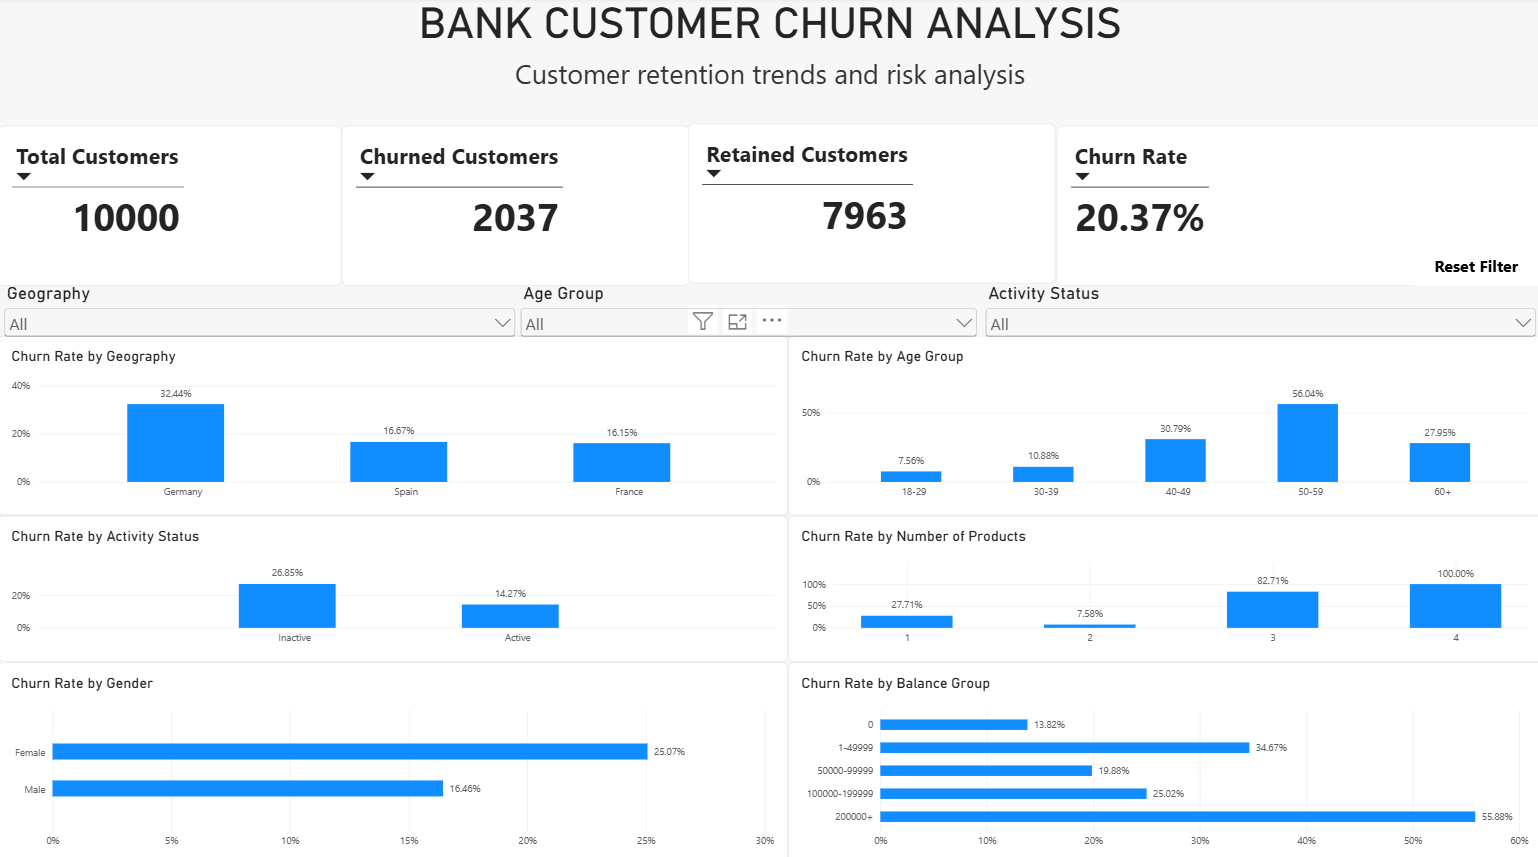

Layout of this report page (visuals, bound fields, positions):
{"tool":"powerbi","page":{"name":"Page 1","canvas":[1920,1080],"ordinal":0},"visuals":[{"type":"clusteredColumnChart","title":"Churn Rate by Number of Products","fields":{"Category":["Bank_Churn.numofproducts"],"Y":["Bank_Churn.Churn Rate"]},"box":[982.4,645.3,938.3,181.2],"z":0},{"type":"clusteredColumnChart","title":"Churn Rate by Activity Status","fields":{"Category":["Bank_Churn.Activity Status"],"Y":["Bank_Churn.Churn Rate"]},"box":[0,645.3,982.4,181.2],"z":1000},{"type":"clusteredColumnChart","title":"Churn Rate by Age Group","fields":{"Category":["Bank_Churn.Age Group"],"Y":["Bank_Churn.Churn Rate"]},"box":[982.4,421.7,938.3,223.6],"z":2000},{"type":"clusteredColumnChart","title":"Churn Rate by Geography","fields":{"Category":["Bank_Churn.geography"],"Y":["Bank_Churn.Churn Rate"]},"box":[0,421.7,982.4,223.6],"z":3000},{"type":"clusteredBarChart","title":"Churn Rate by Gender","fields":{"Category":["Bank_Churn.gender"],"Y":["Bank_Churn.Churn Rate"]},"box":[0,826.5,982.4,252.4],"z":4000},{"type":"clusteredBarChart","title":"Churn Rate by Balance Group","fields":{"Category":["Bank_Churn.Balance Group"],"Y":["Bank_Churn.Churn Rate"]},"box":[982.4,826.5,938.3,252.4],"z":5000},{"type":"slicer","fields":{"Values":["Bank_Churn.geography"]},"box":[3.4,355.7,645.4,66.3],"z":6000},{"type":"slicer","fields":{"Values":["Bank_Churn.Age Group"]},"box":[645.3,355.7,577.3,66.3],"z":7000},{"type":"slicer","fields":{"Values":["Bank_Churn.Activity Status"]},"box":[1222.9,355.7,694.2,66.3],"z":8000},{"type":"tableEx","fields":{"Values":["Bank_Churn.Total Customers"]},"box":[0,160.5,427.3,198.8],"z":9000},{"type":"tableEx","fields":{"Values":["Bank_Churn.Churned Customers"]},"box":[427.3,160.5,432.6,198.8],"z":10000},{"type":"tableEx","fields":{"Values":["Bank_Churn.Retained Customers"]},"box":[858.7,157.5,457,198.8],"z":11000},{"type":"tableEx","fields":{"Values":["Bank_Churn.Churn Rate"]},"box":[1316.5,160.8,604.7,199.3],"z":12000},{"type":"textbox","title":"BANK CUSTOMER CHURN ANALYSIS","box":[0,0,1920.4,160.5],"z":13000},{"type":"actionButton","box":[1760.4,309.9,159.1,50.2],"z":13001}]}

Visuals, with their boxes in screenshot pixels (x1, y1, x2, y2), scaled from the page's 1920x1080 canvas onto the 1538x857 screenshot:
"Churn Rate by Number of Products" clusteredColumnChart: x1=787 y1=512 x2=1537 y2=656
"Churn Rate by Activity Status" clusteredColumnChart: x1=0 y1=512 x2=787 y2=656
"Churn Rate by Age Group" clusteredColumnChart: x1=787 y1=335 x2=1537 y2=512
"Churn Rate by Geography" clusteredColumnChart: x1=0 y1=335 x2=787 y2=512
"Churn Rate by Gender" clusteredBarChart: x1=0 y1=656 x2=787 y2=856
"Churn Rate by Balance Group" clusteredBarChart: x1=787 y1=656 x2=1537 y2=856
slicer - Bank_Churn.geography: x1=3 y1=282 x2=520 y2=335
slicer - Bank_Churn.Age Group: x1=517 y1=282 x2=979 y2=335
slicer - Bank_Churn.Activity Status: x1=980 y1=282 x2=1536 y2=335
tableEx - Bank_Churn.Total Customers: x1=0 y1=127 x2=342 y2=285
tableEx - Bank_Churn.Churned Customers: x1=342 y1=127 x2=689 y2=285
tableEx - Bank_Churn.Retained Customers: x1=688 y1=125 x2=1054 y2=283
tableEx - Bank_Churn.Churn Rate: x1=1055 y1=128 x2=1537 y2=286
"BANK CUSTOMER CHURN ANALYSIS" textbox: x1=0 y1=0 x2=1537 y2=127
actionButton: x1=1410 y1=246 x2=1537 y2=286
